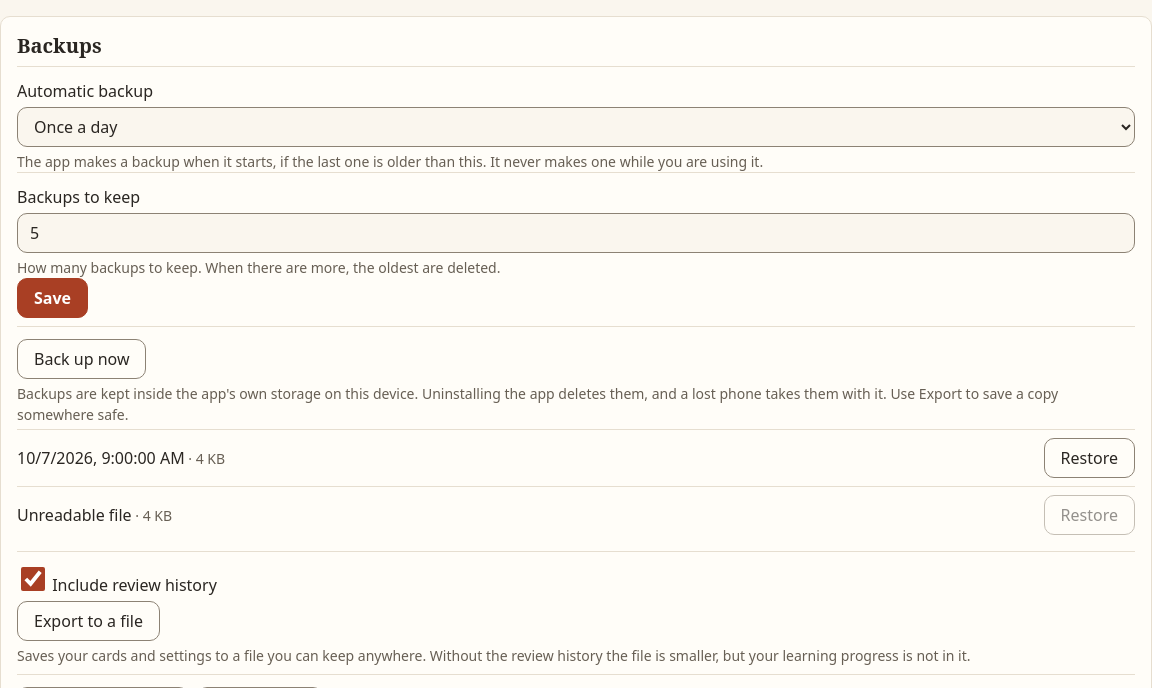
Test: Backups in Settings › Restore asks first and Cancel changes nothing
expect the button "Back up now" is shown: met, box [17,339,146,379]
Click the button "Restore" in the row of "10/7/2026, 9:00:00 AM" at (1089, 458), box [1044,438,1135,478]
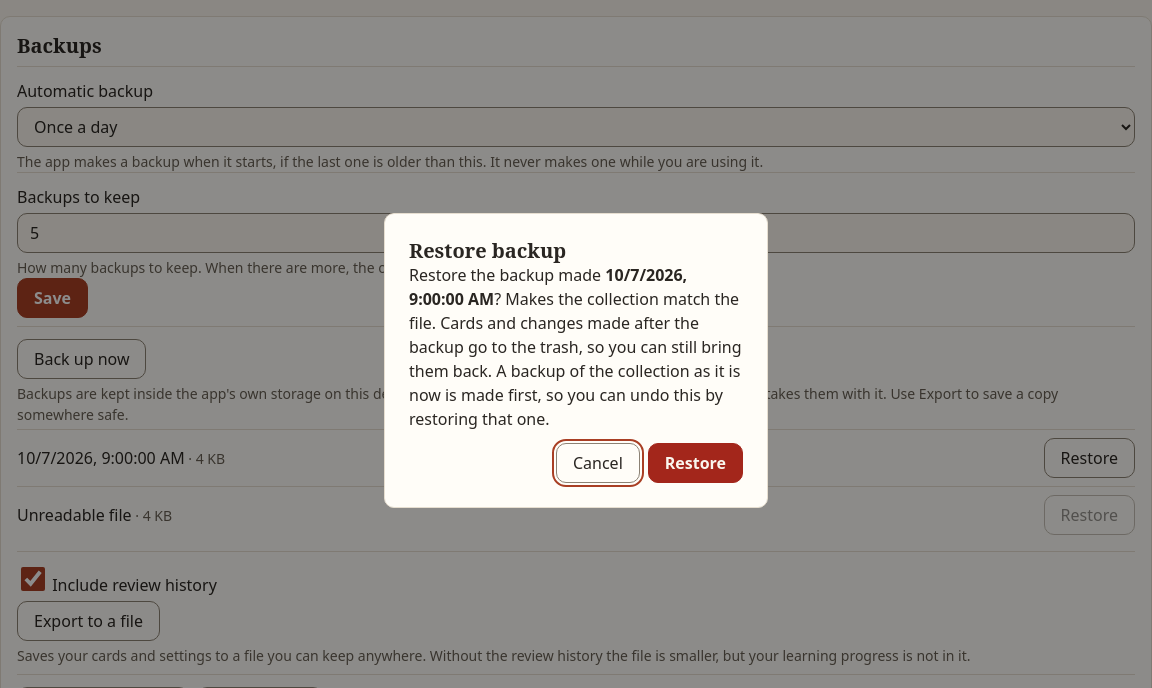
expect the dialog shows "made first": met, box [409,360,740,430]
Click the button "Cancel" at (598, 462), box [556,442,640,482]
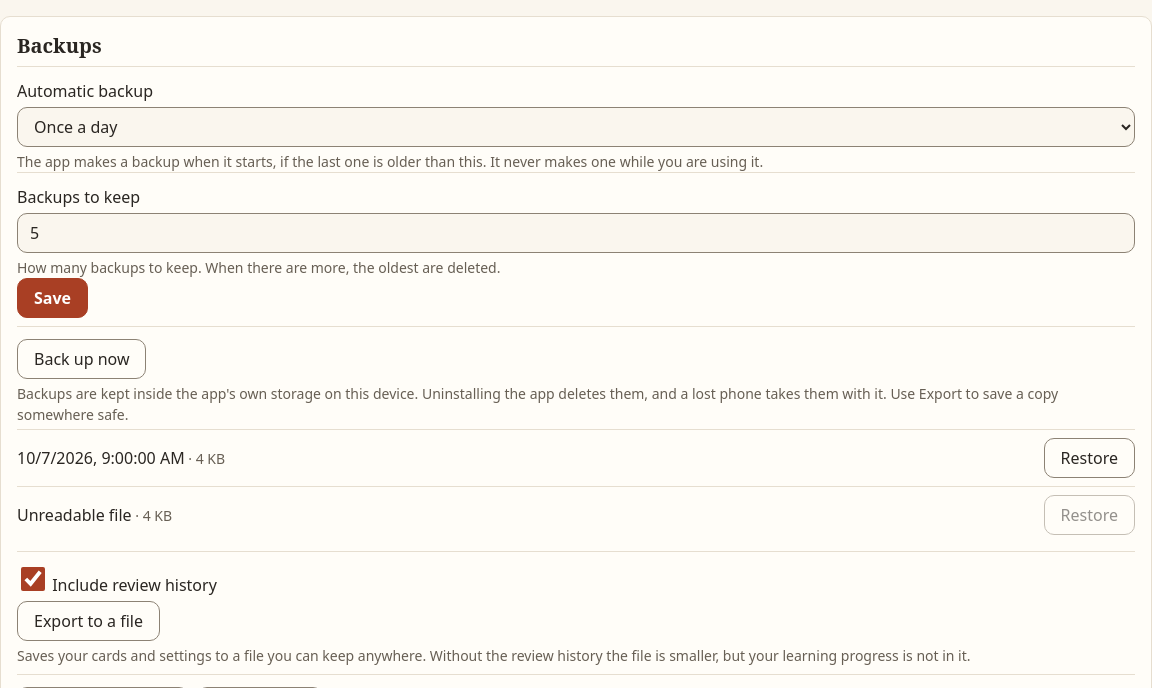
expect the dialog is gone: met
